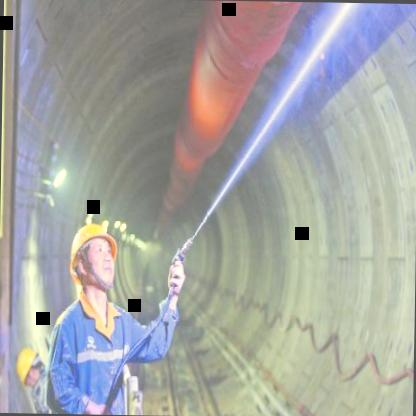helmet: (65, 212, 125, 306), (14, 344, 46, 392)
